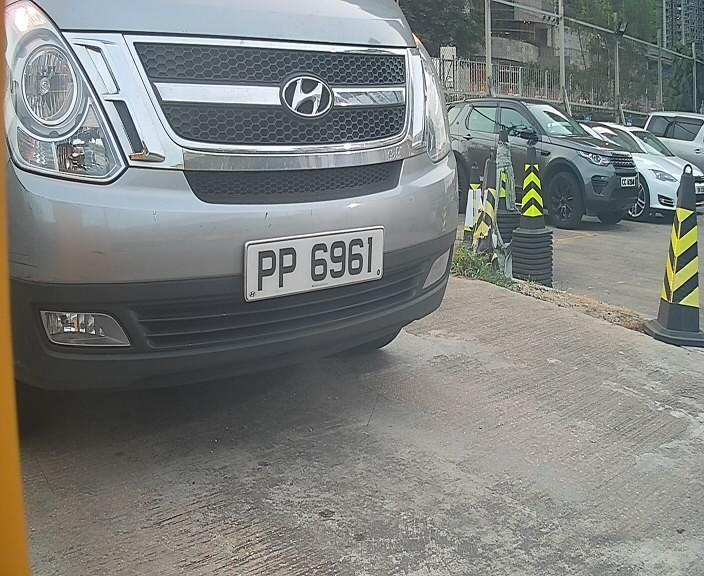privatecar: (10, 11, 475, 407)
